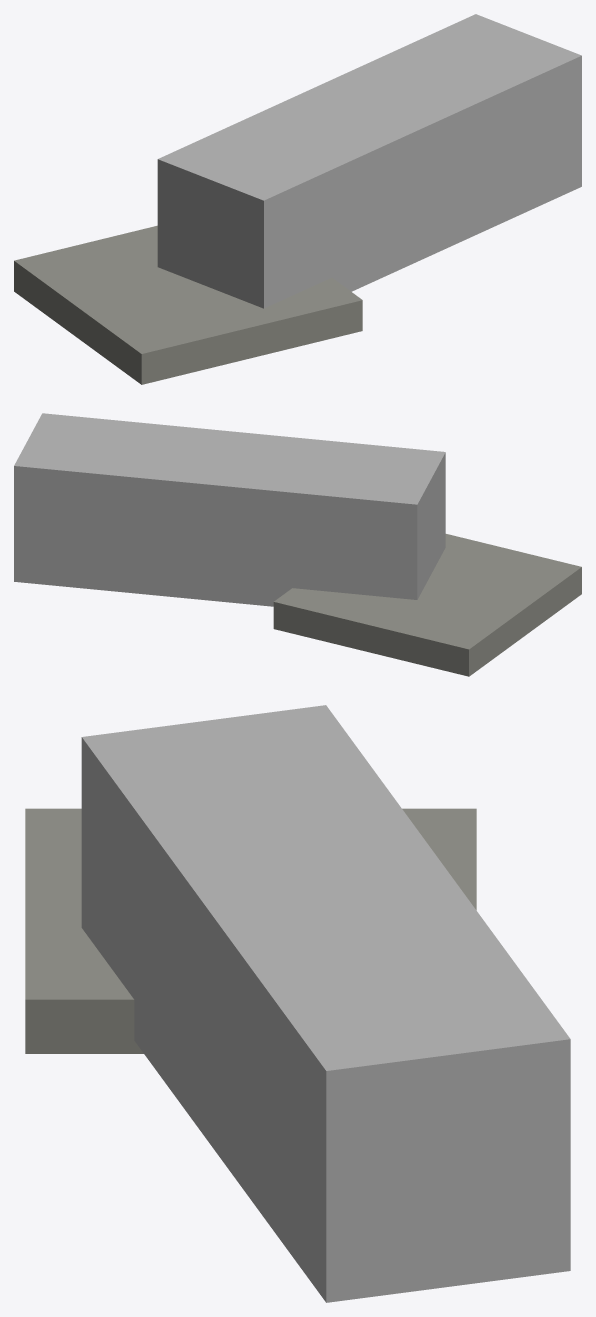
Rendered from SM_poste_km_v5_LOD1.fbx.
3 renders of one model, top to bottom at view 1: azimuth 30°, elevation 25°; view 2: azimuth 150°, elevation 25°; view 3: azimuth 270°, elevation 25°, orthographic. The views are drawn at different scales.
Parts seen in each view (by area): view 1: SM_bloques.poste_km_v5_LOD1; view 2: SM_bloques.poste_km_v5_LOD1; view 3: SM_bloques.poste_km_v5_LOD1.
Part boxes in pixels (x1=…): SM_bloques.poste_km_v5_LOD1: x1=14, y1=14, x2=581, y2=384; SM_bloques.poste_km_v5_LOD1: x1=14, y1=413, x2=581, y2=676; SM_bloques.poste_km_v5_LOD1: x1=25, y1=705, x2=570, y2=1302.
Bounding box in the file's own units: 1.43 × 0.36 × 0.7249.
